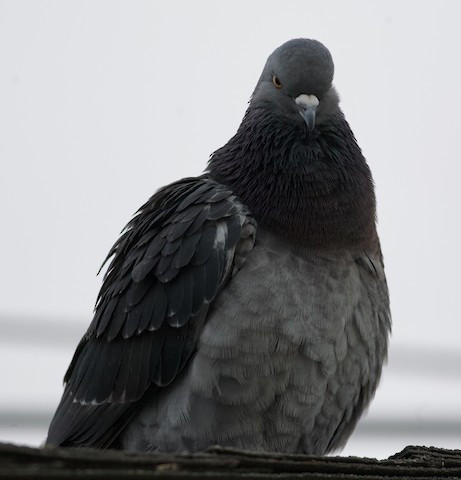pigeon: (34, 32, 398, 470)
